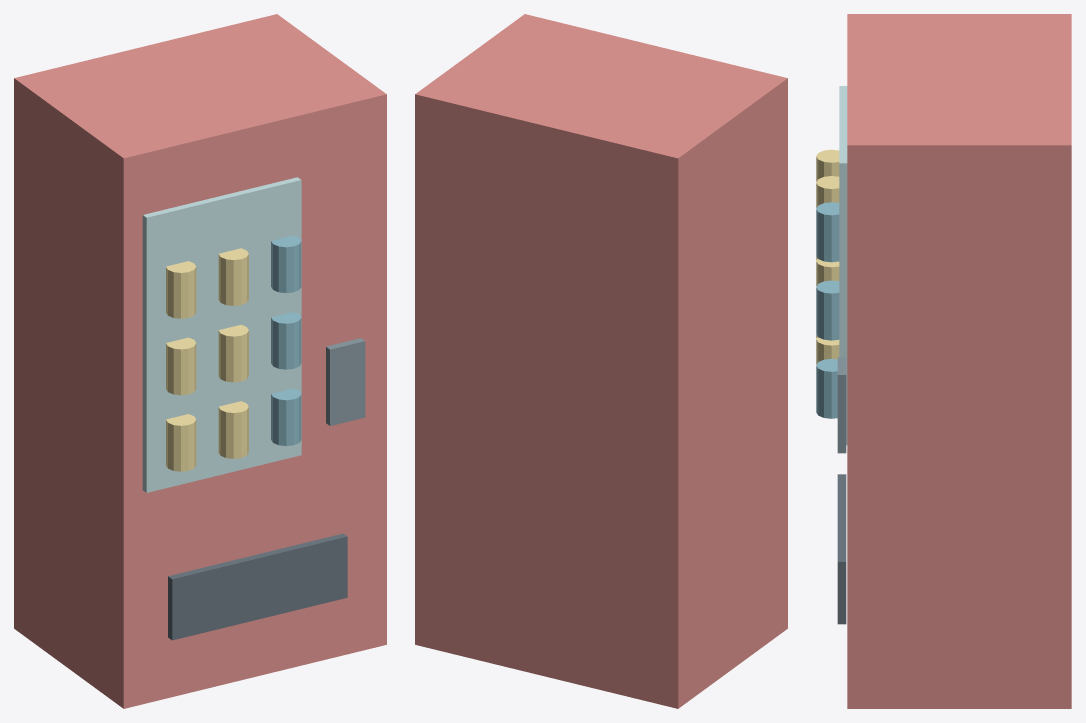
The model's file is vending_machine.glb.
The picture shows the model from 3 angles, left to right: view 1: azimuth 30°, elevation 25°; view 2: azimuth 150°, elevation 25°; view 3: azimuth 270°, elevation 25°; orthographic projection. The views are drawn at different scales.
Parts seen in each view (by area): view 1: vending_machine_000, vending_machine_001, vending_machine_011, vending_machine_012, vending_machine_008, vending_machine_002, vending_machine_003, vending_machine_004, vending_machine_005, vending_machine_006, vending_machine_007, vending_machine_009 (+1 smaller); view 2: vending_machine_000; view 3: vending_machine_000, vending_machine_001, vending_machine_011, vending_machine_007, vending_machine_010, vending_machine_004, vending_machine_012, vending_machine_009, vending_machine_008, vending_machine_006, vending_machine_003.
Boxes of the visible parts, <box> form: vending_machine_000: <box>14,14,386,708</box>; vending_machine_001: <box>142,177,301,492</box>; vending_machine_011: <box>168,533,347,640</box>; vending_machine_012: <box>326,338,365,425</box>; vending_machine_008: <box>166,261,196,318</box>; vending_machine_002: <box>166,414,196,471</box>; vending_machine_003: <box>218,401,248,458</box>; vending_machine_004: <box>271,388,301,445</box>; vending_machine_005: <box>166,337,196,395</box>; vending_machine_006: <box>218,324,248,382</box>; vending_machine_007: <box>271,312,301,369</box>; vending_machine_009: <box>218,248,248,305</box>; vending_machine_000: <box>415,14,787,708</box>; vending_machine_000: <box>847,14,1071,708</box>; vending_machine_001: <box>839,86,847,445</box>; vending_machine_011: <box>837,474,846,624</box>; vending_machine_007: <box>816,280,839,340</box>; vending_machine_010: <box>816,202,839,262</box>; vending_machine_004: <box>816,358,837,418</box>; vending_machine_012: <box>837,357,846,453</box>; vending_machine_009: <box>816,176,839,207</box>; vending_machine_008: <box>816,149,839,181</box>; vending_machine_006: <box>816,258,839,286</box>; vending_machine_003: <box>816,337,839,364</box>.
Bounding box in the file's own units: 0.9 × 1.8 × 0.74.
